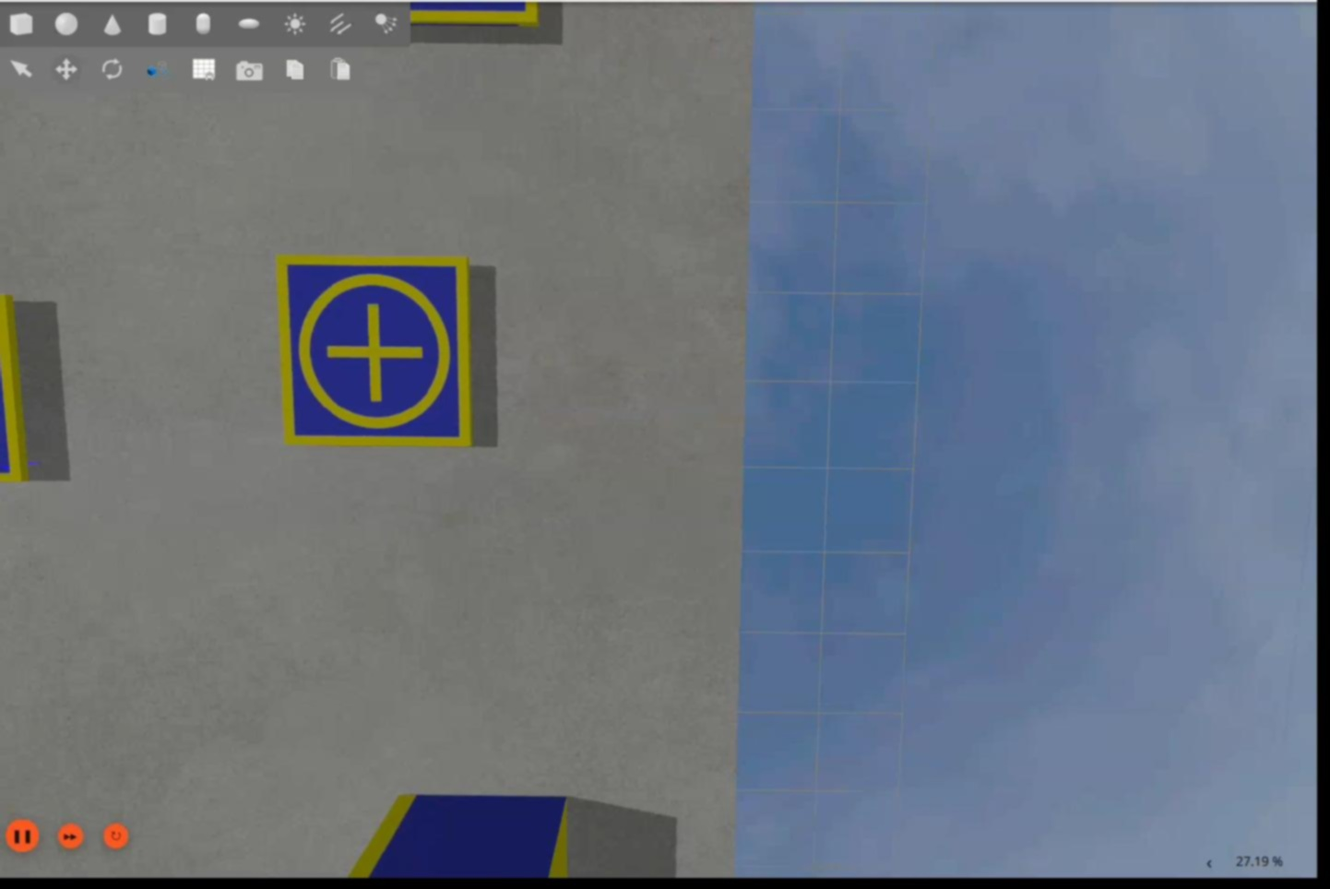small_base: (275, 253, 478, 450)
